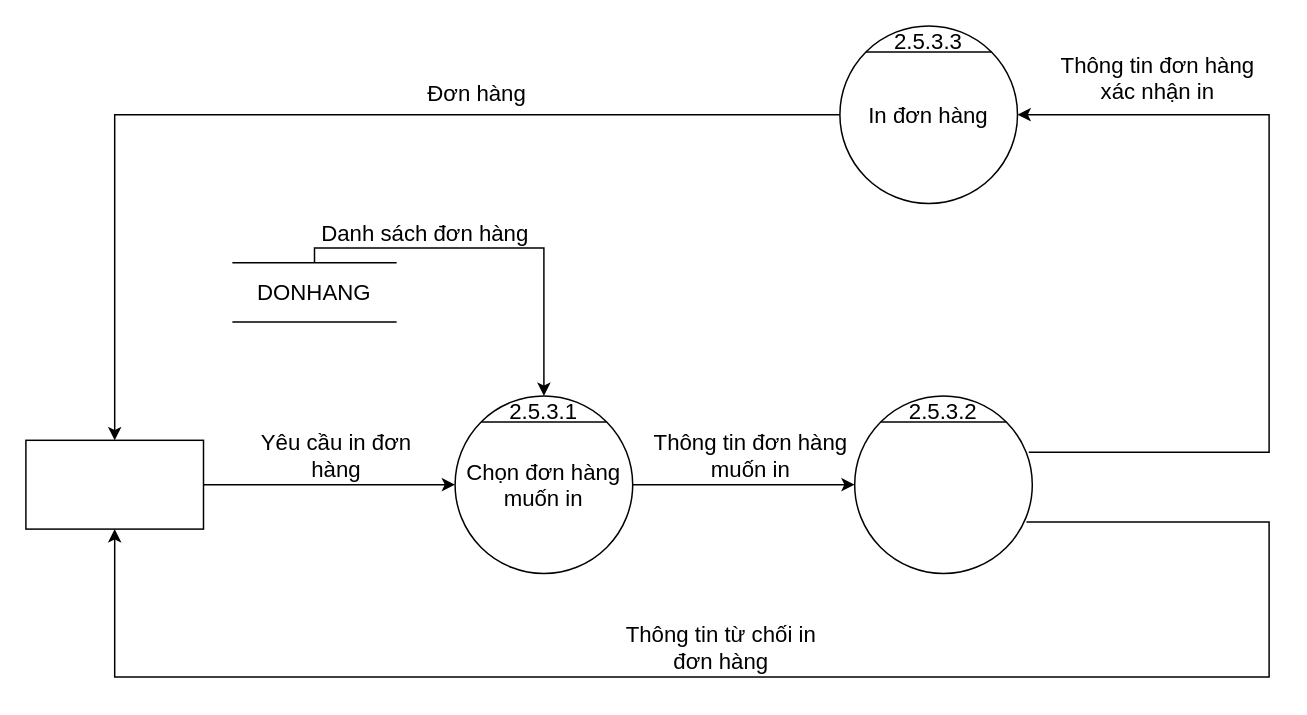
Image size: 1307x715. Some labels were removed from this diagram. The box of each missing label's shape, as (x1, y1, x2, y2) in pixels:
Nhân viên quản lý: (24, 439, 204, 529)
Xác nhận in đơn hàng: (853, 394, 1032, 574)
